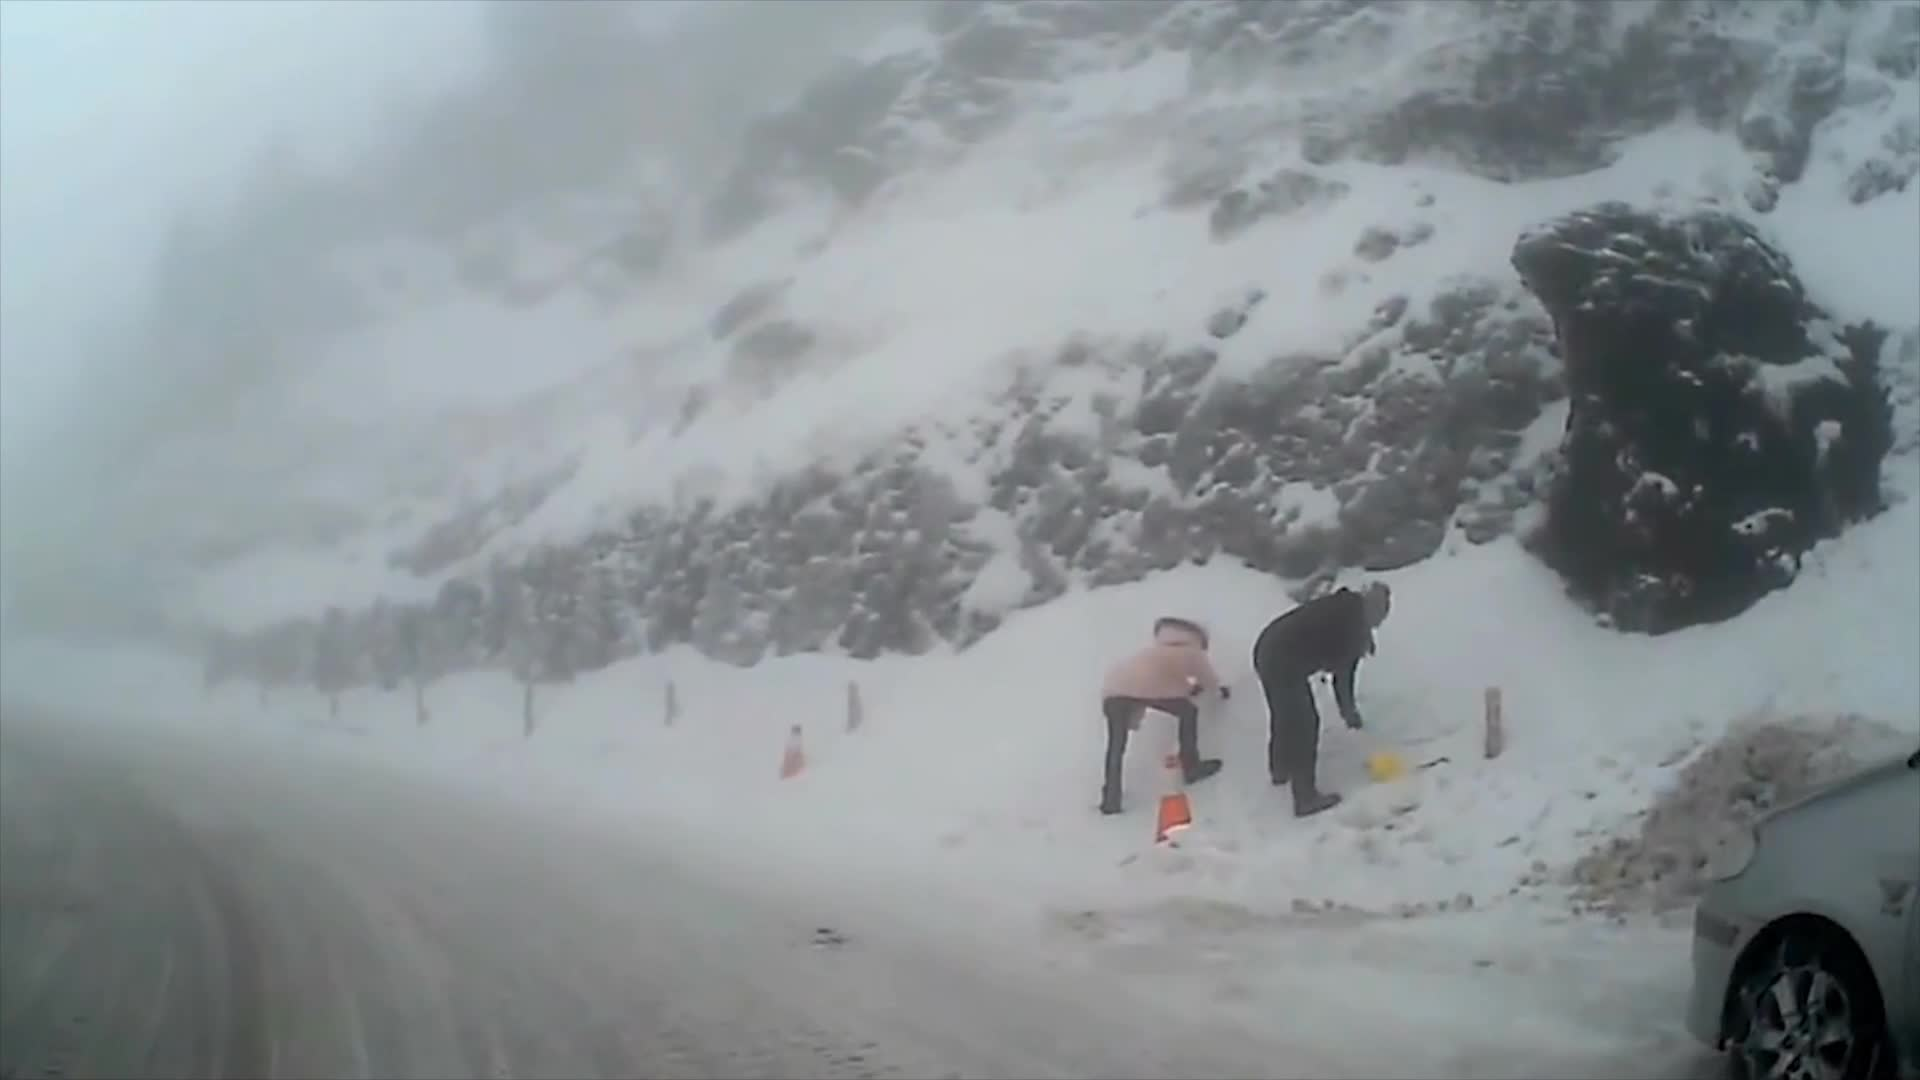pedestrian: (1252, 584, 1393, 817), (1096, 609, 1236, 818)
vehicle: (1682, 743, 1920, 1079)
